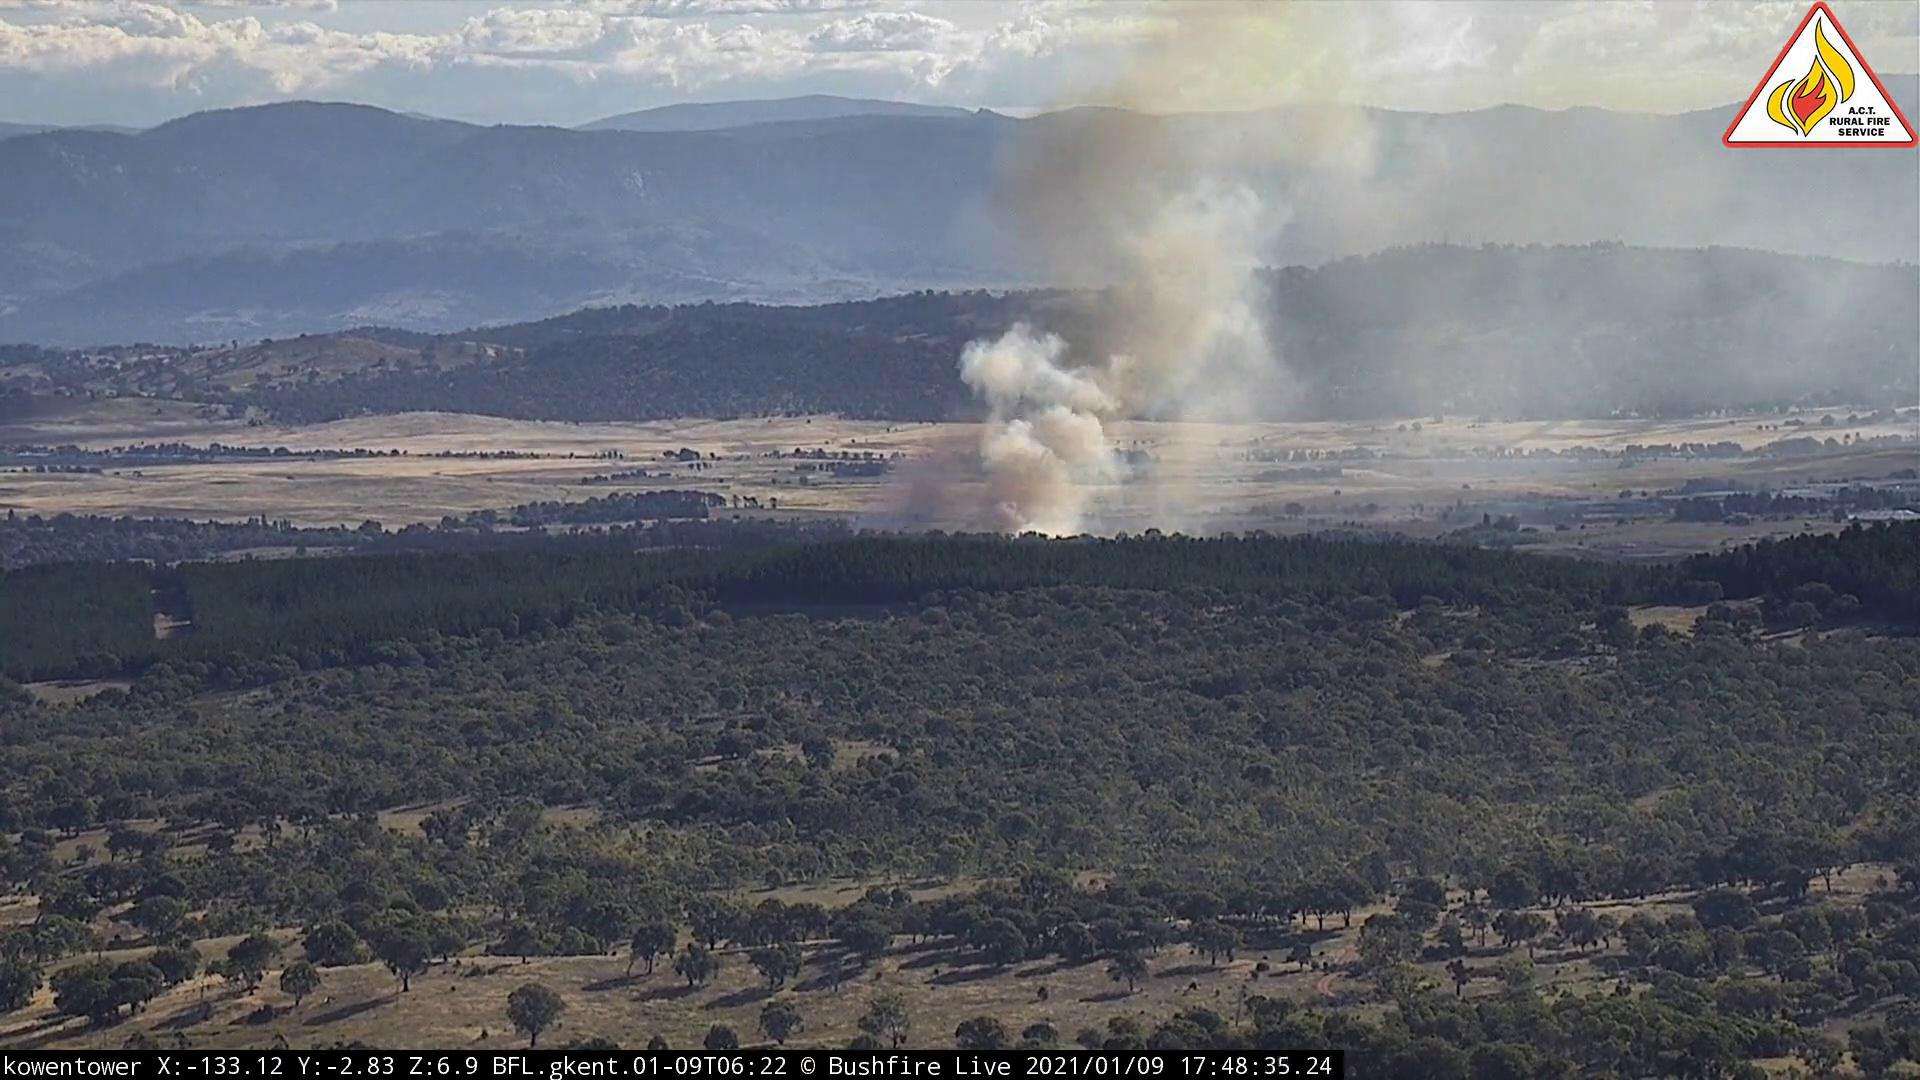Smoke: (816, 3, 1714, 545)
